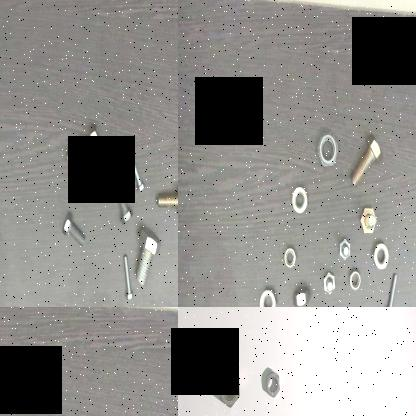Bolts: (349, 131, 382, 193), (134, 222, 162, 286), (64, 126, 106, 168), (61, 208, 86, 250), (113, 180, 134, 228), (153, 182, 178, 222), (127, 150, 146, 193), (381, 271, 403, 307), (358, 206, 378, 240), (318, 269, 338, 297), (338, 237, 350, 263)
NUTS: (218, 361, 242, 410), (316, 128, 340, 170), (290, 185, 312, 219), (264, 368, 284, 404), (372, 240, 391, 273), (290, 282, 312, 307), (282, 238, 298, 272), (258, 283, 280, 307), (346, 265, 364, 291)
